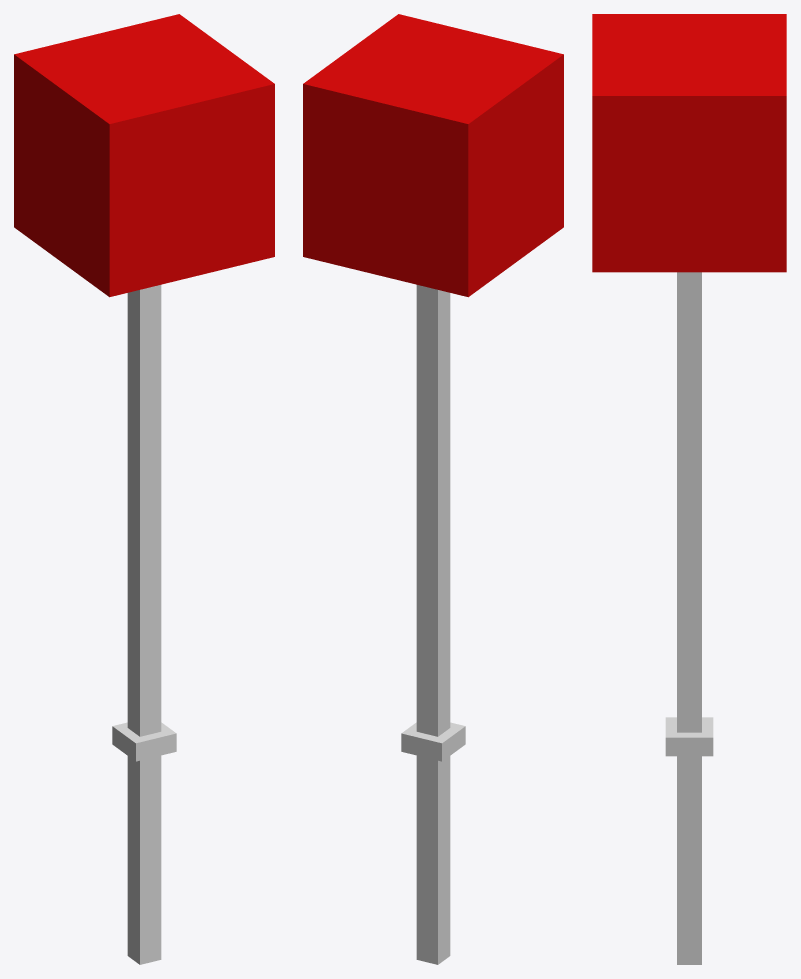
The model's file is Billboard_4.fbx.
The picture shows the model from 3 angles, left to right: view 1: azimuth 30°, elevation 25°; view 2: azimuth 150°, elevation 25°; view 3: azimuth 270°, elevation 25°; orthographic projection.
Visible parts, largest first — view 1: polySurface9; view 2: polySurface9; view 3: polySurface9.
Part boxes in pixels (x1,y1,x2,y2): polySurface9: (14,14,274,964); polySurface9: (303,14,563,964); polySurface9: (592,14,786,964).
Bounding box in the file's own units: 5.26 × 27 × 5.26.
